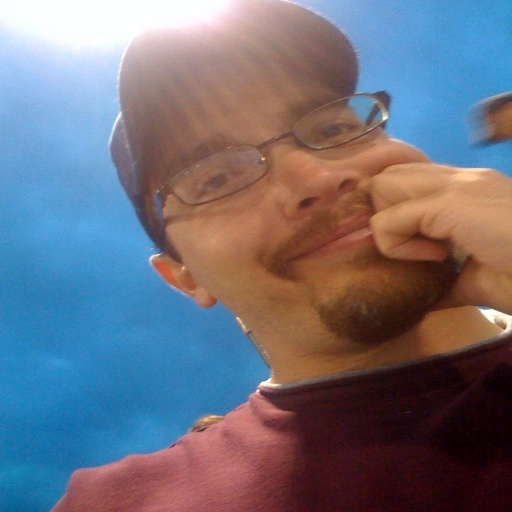hand: (356, 135, 507, 311)
